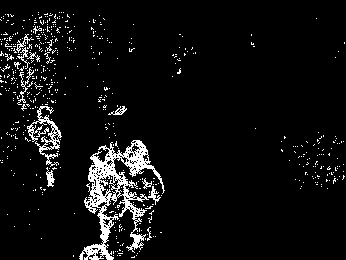person: (121, 138, 164, 258), (82, 145, 126, 246), (27, 105, 61, 189)
